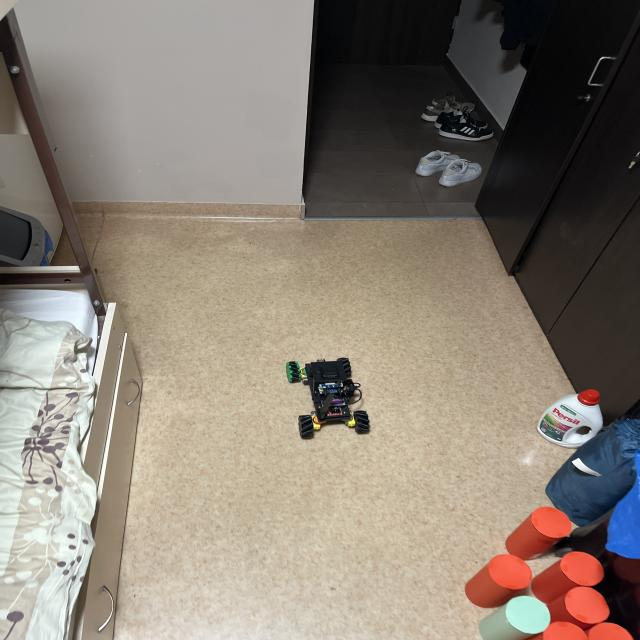robot: (286, 358, 370, 439)
